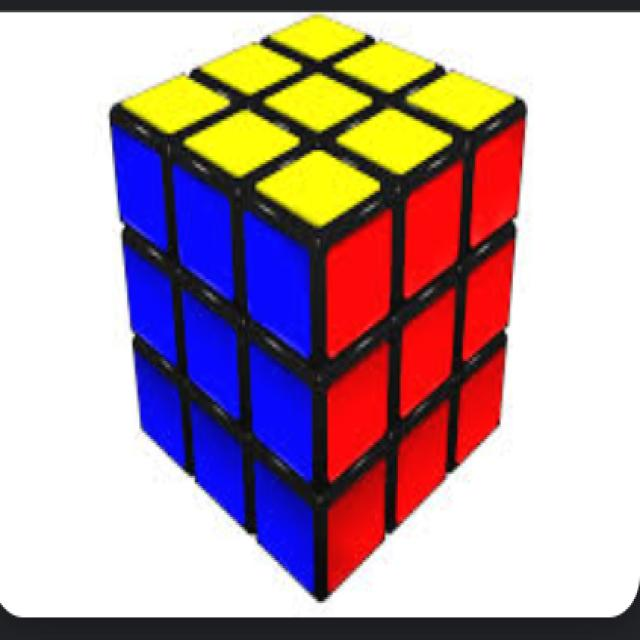Cubo-Resuelto: (109, 12, 523, 597)
